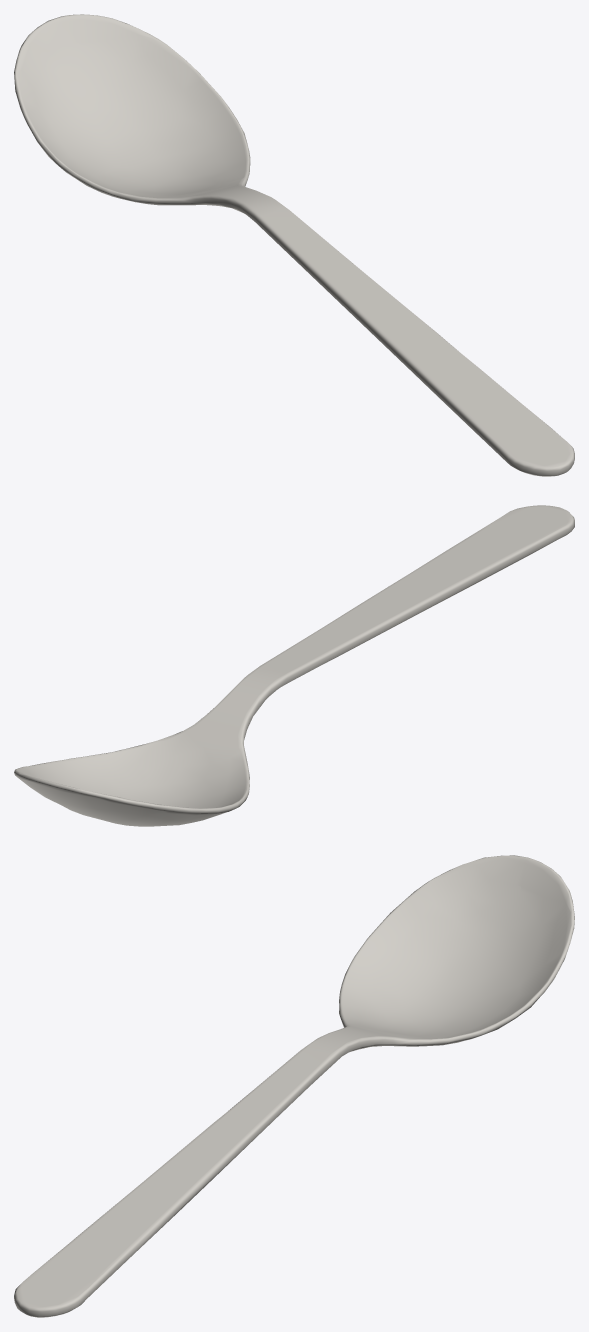
Rendered from Fornuft90428489.glb.
The picture shows the model from 3 angles, top to bottom: view 1: azimuth 30°, elevation 25°; view 2: azimuth 150°, elevation 25°; view 3: azimuth 330°, elevation 25°; orthographic projection.
Parts seen in each view (by area): view 1: model; view 2: model; view 3: model.
Part boxes in pixels (x1,y1,x2,y2): model: [14, 14, 574, 476]; model: [14, 505, 574, 826]; model: [14, 855, 574, 1317].
Bounding box in the file's own units: 0.04 × 0.02 × 0.1894.
Materials: 1 (1 with a texture image).
